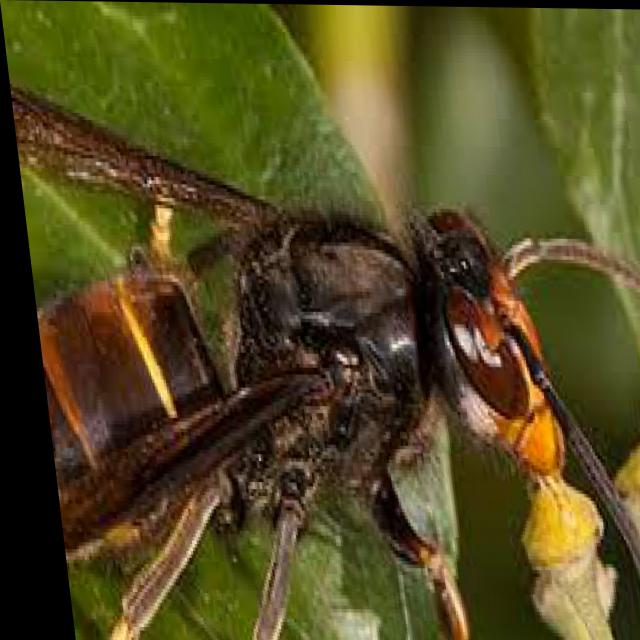Vespa Velutina: (6, 69, 639, 639)
